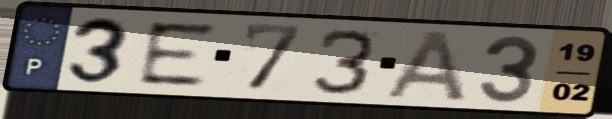3: (63, 13, 139, 87), (310, 26, 380, 97), (475, 33, 540, 105)
7: (240, 20, 306, 94)
A: (380, 28, 471, 104)
E: (136, 20, 220, 87)
